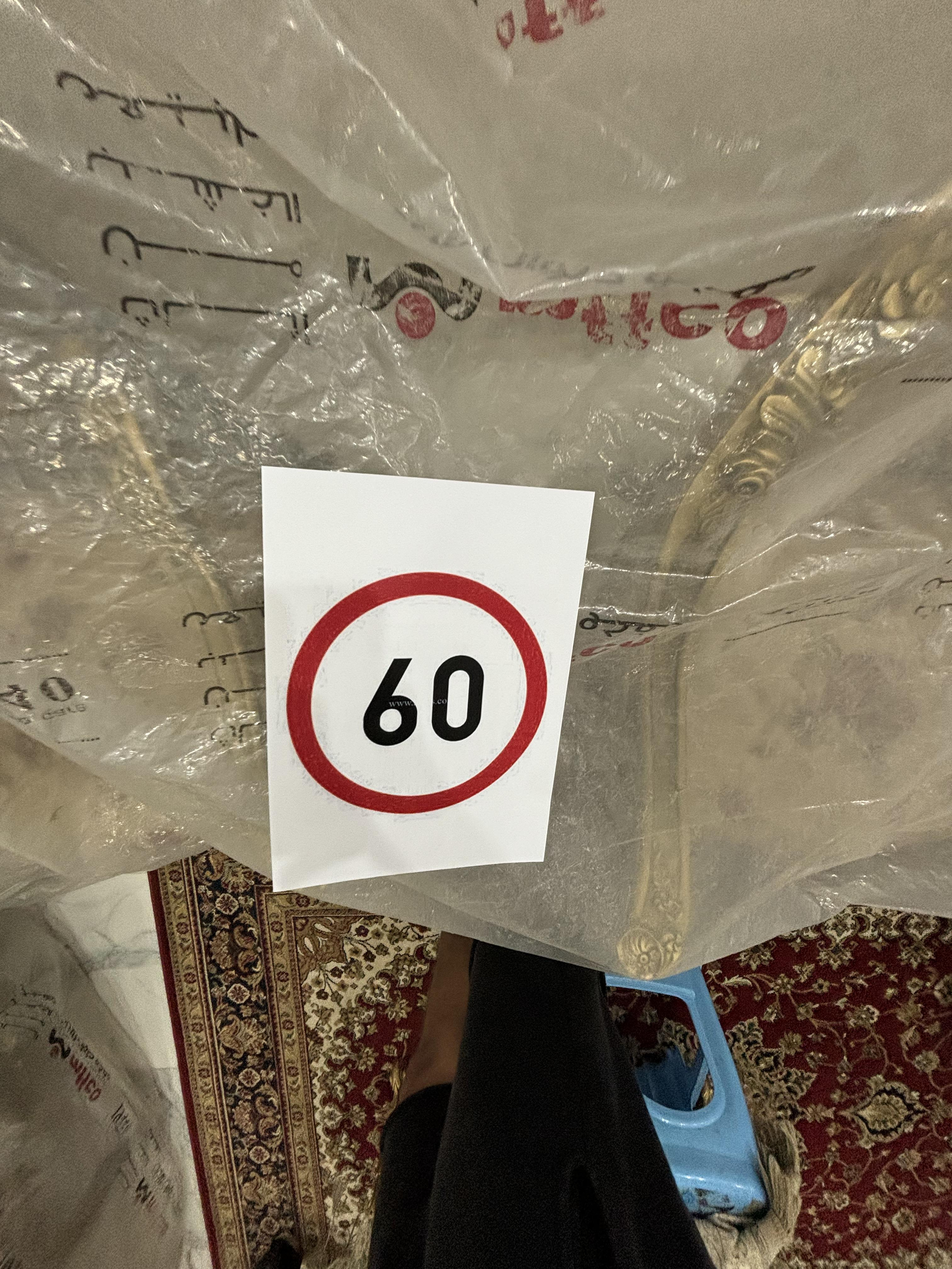60-Speed: (284, 564, 548, 835)
